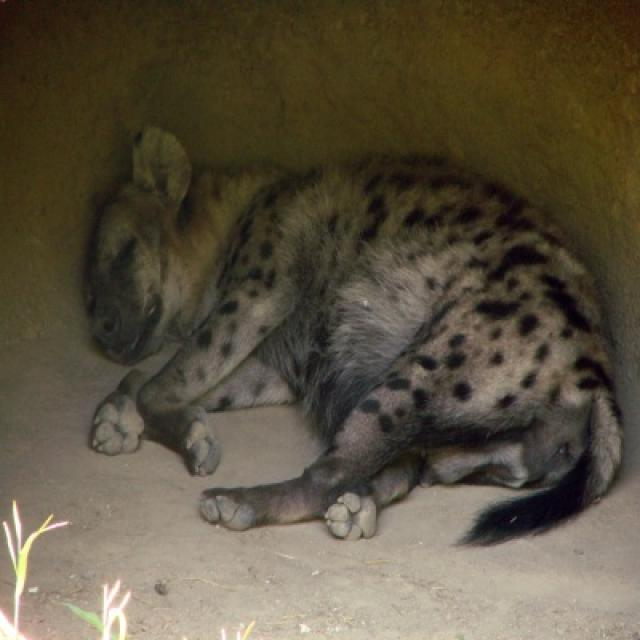hyena: (82, 126, 626, 549)
